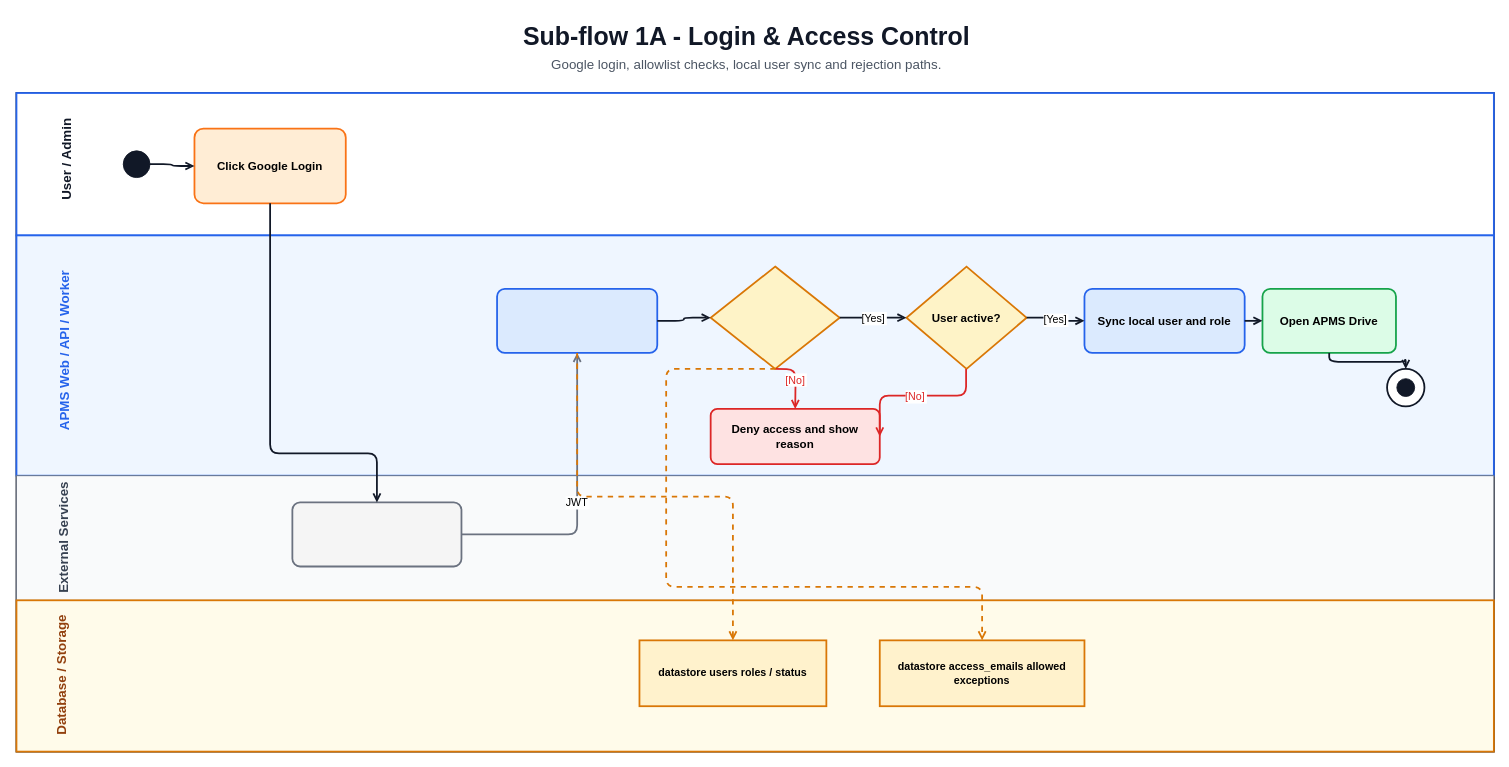
The diagram is 1509 pixels wide and 767 high, and some of its shapes have lost their labels. The shapes that lost their labels are listed below. From the top down, each one's box as (x1, y1, x2, y2) in pixels, then its label:
(496, 287, 658, 353): Resolve JWT session
(709, 265, 840, 369): Allowed domain or access email?
(291, 501, 462, 567): Google + Cognito authentication
